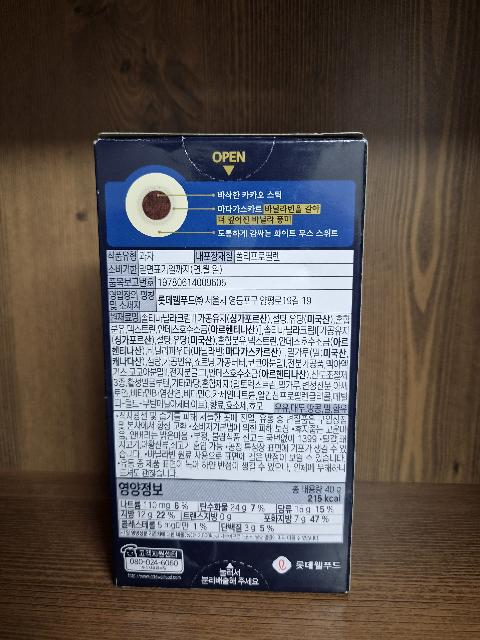pepero: (93, 132, 369, 594)
